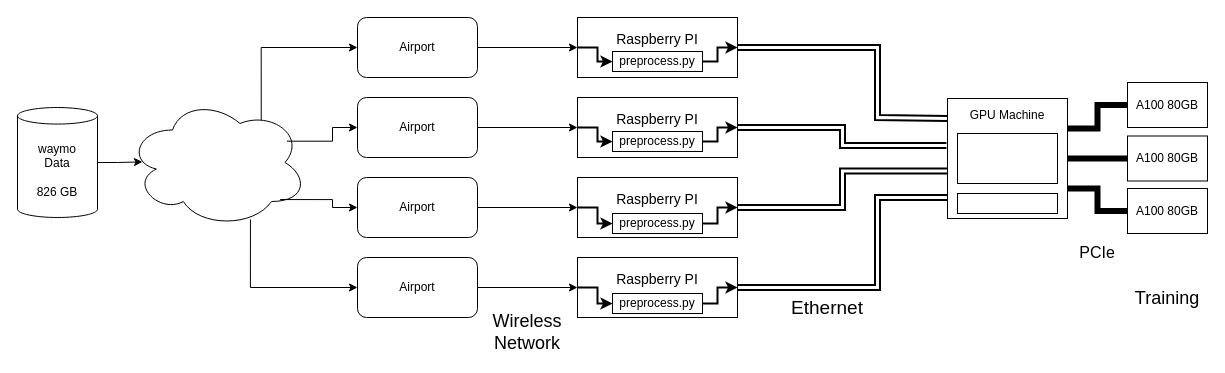
This 1225x373 diagram has some shape labels left out. The shapes that lost their labels are listed below. From the top down, each one's box as (x1, y1, x2, y2) in pixels, then its label:
(126, 96, 308, 228): Internet
(956, 132, 1058, 184): Intel Xeon(R) 5320 2.2GHz 104 Core
(956, 192, 1058, 214): Rasterization.py
